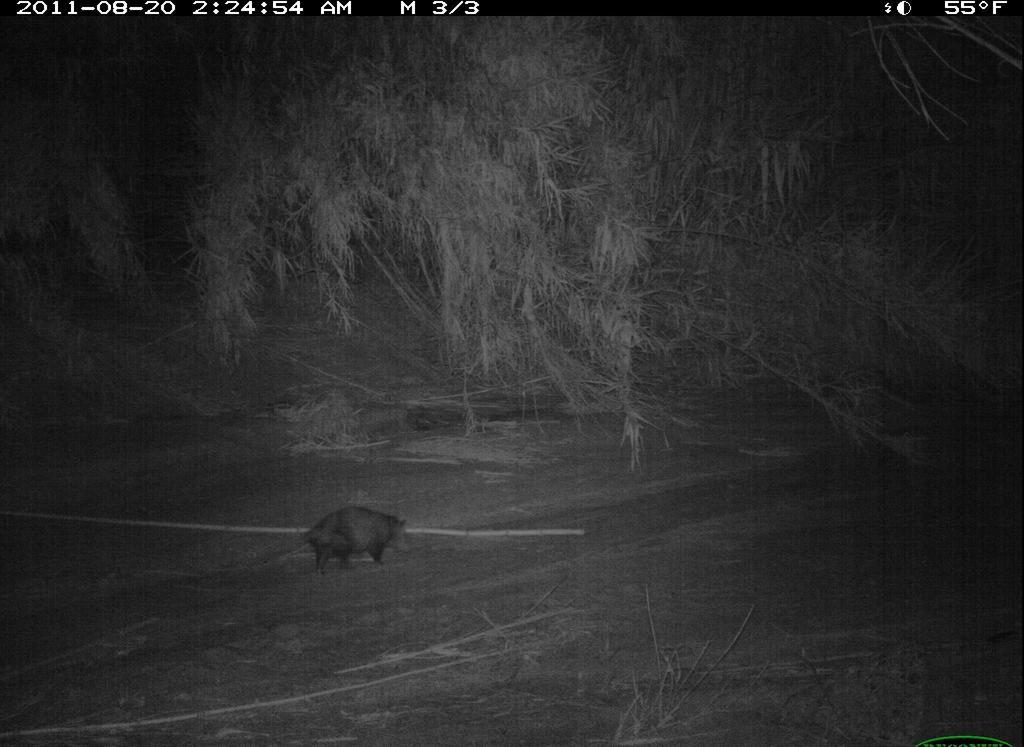opossum: (245, 442, 443, 592)
